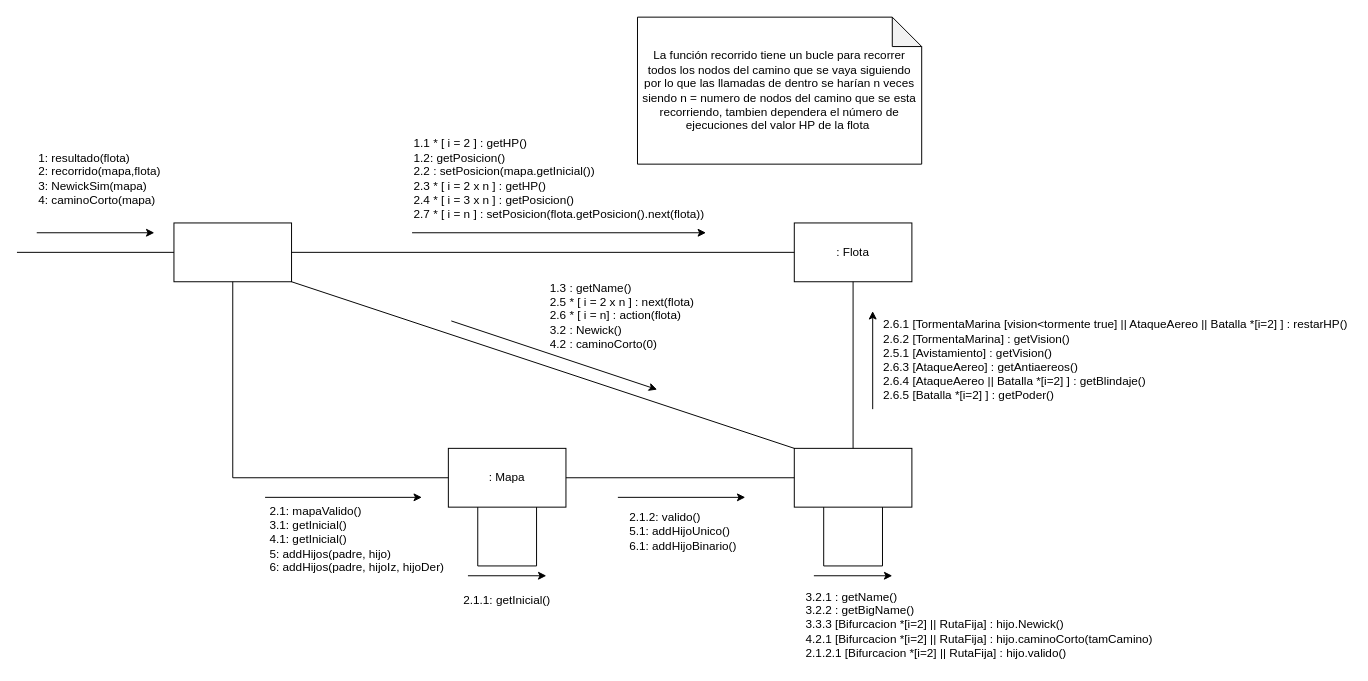
This 1368x681 diagram has some shape labels left out. Each missing label, with the centre of its shape:
: Nodo: point 852,477
: Simulador: point 232,252
